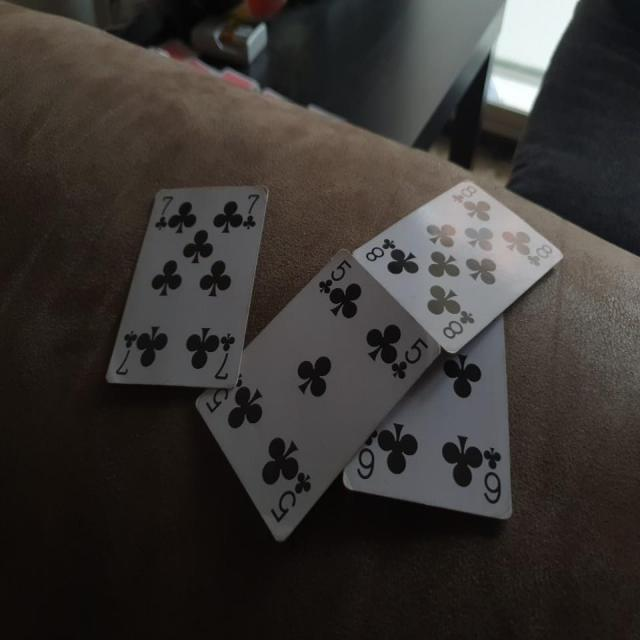5 Trefoils: (191, 248, 442, 543)
6 Trefoils: (343, 310, 514, 521)
7 Trefoils: (102, 182, 269, 388)
8 Trefoils: (351, 178, 565, 354)
